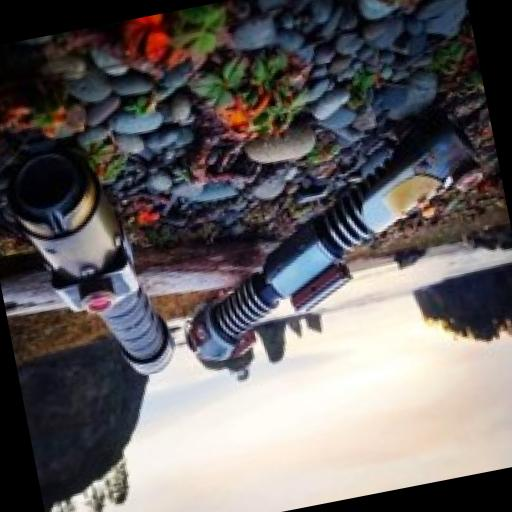lightsaber: (153, 104, 512, 371), (0, 128, 183, 398)
